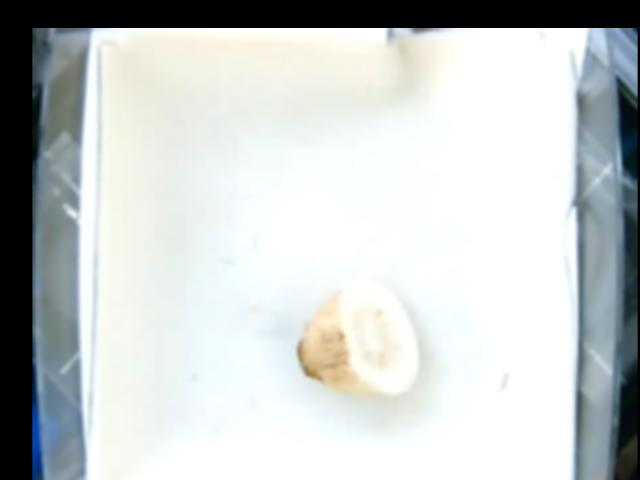Mooli: (293, 279, 421, 398)
